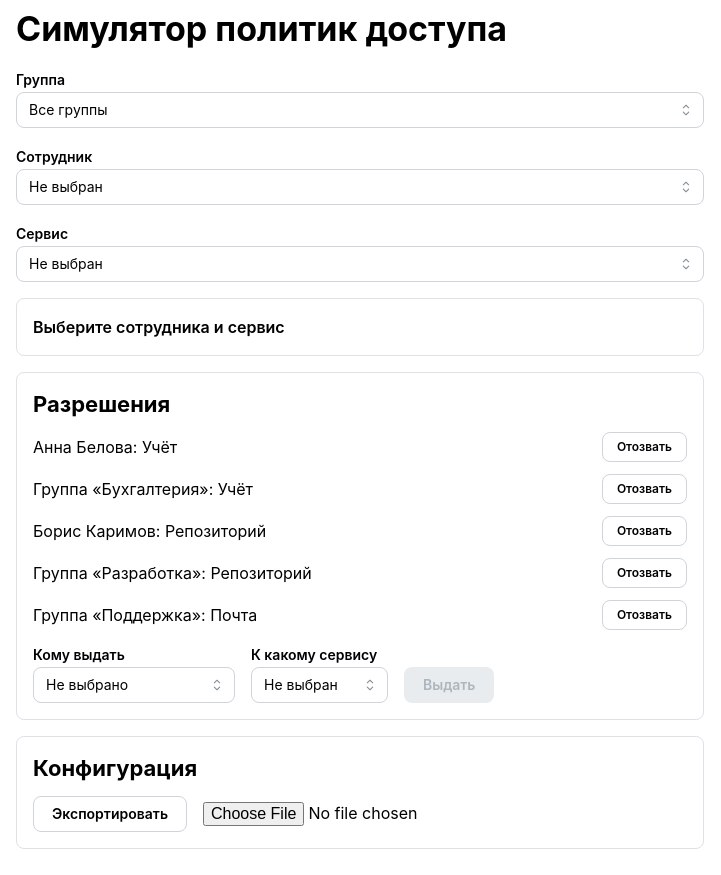
Test: экран расчёта доступа › показывает доступ по разрешению группы
Select "Вера Лисицына" in the dropdown with test id "user-select" at (360, 187), box [16, 169, 704, 205]
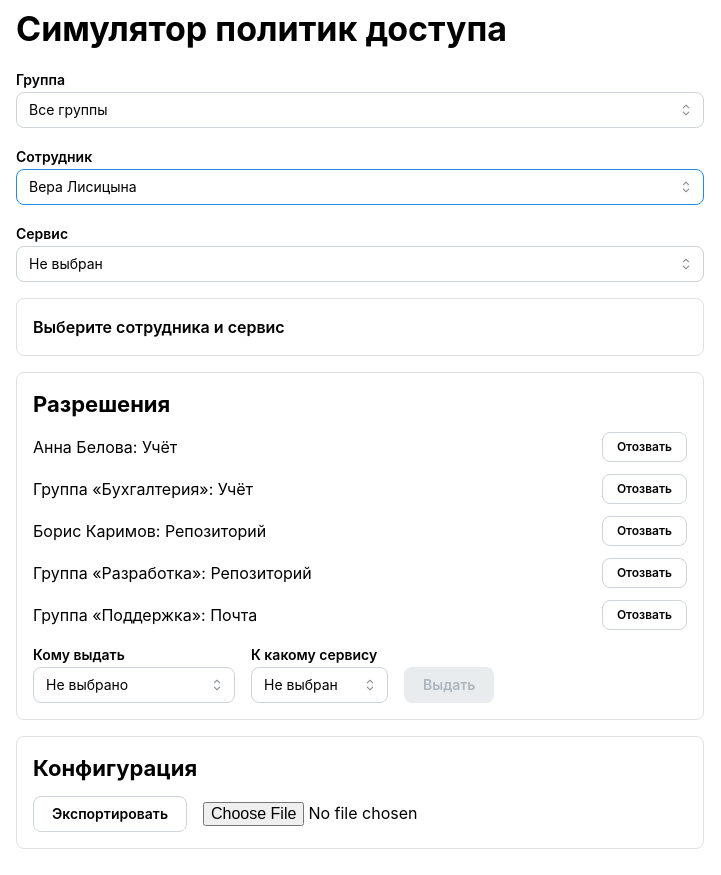
Select "Репозиторий" in the dropdown with test id "service-select" at (360, 264), box [16, 246, 704, 282]
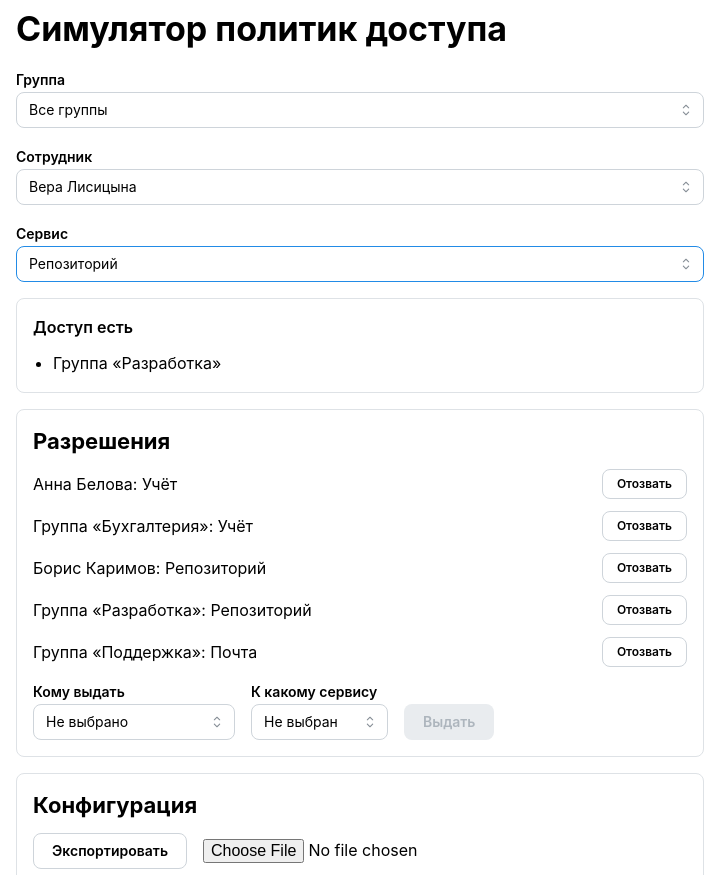
Result: the text with test id "access-result" reads "Доступ есть" at [33, 317, 133, 337]
Result: the list with test id "access-sources" reads "Группа «Разработка»" at [53, 353, 221, 373]
